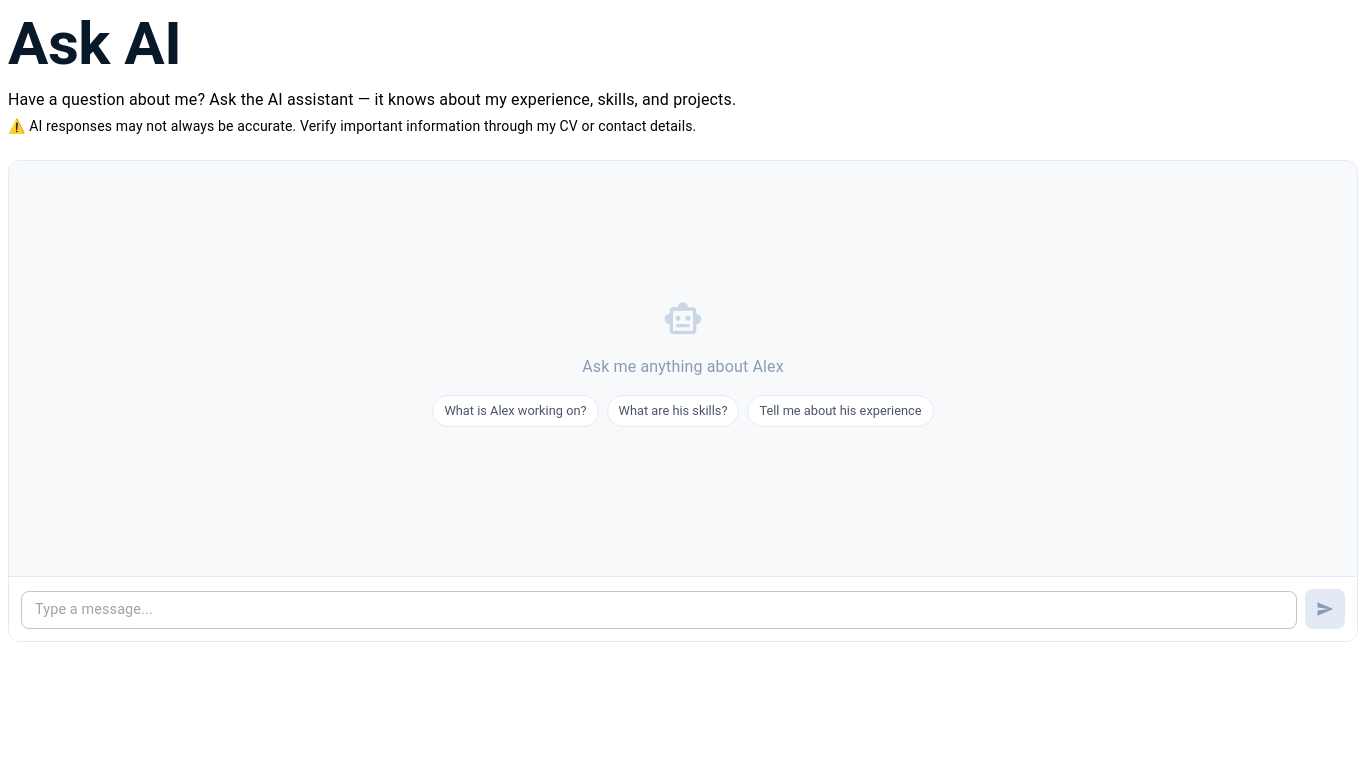
Chat › sends the typed message, streams the reply token by token, and clears the input
The width and height of the screenshot is (1366, 768).
Type "Hi Alex" into the text box with placeholder "Type a message...".
click(659, 610); type("Hi Alex")  # box [35,600,1283,620]
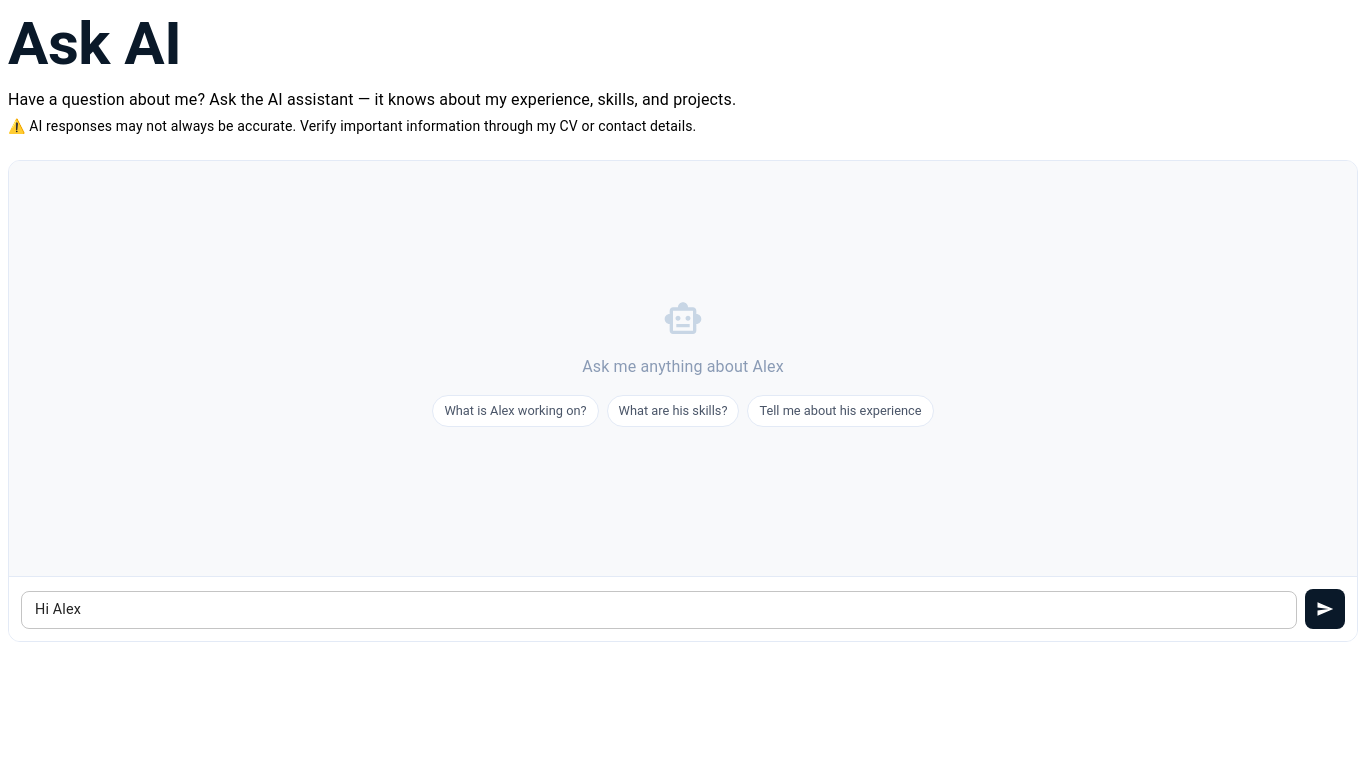
Click the button named "Send message".
click(1325, 609)  # box [1305,589,1345,629]
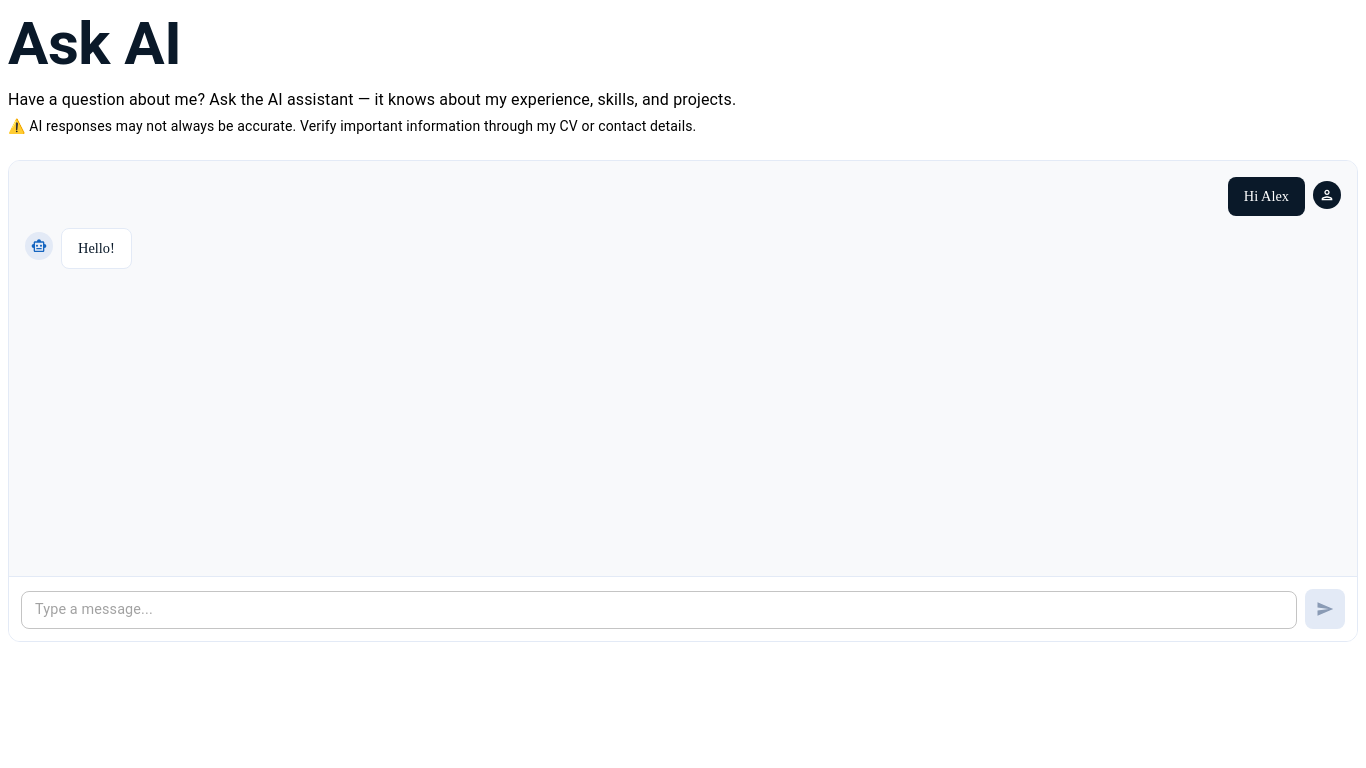
Expected: the text "Hi Alex" is shown, [1228,177,1305,216]
Expected: the text box with placeholder "Type a message..." is empty, [35,600,1283,620]
Expected: the text "Hello!" is shown, [78,237,115,260]
